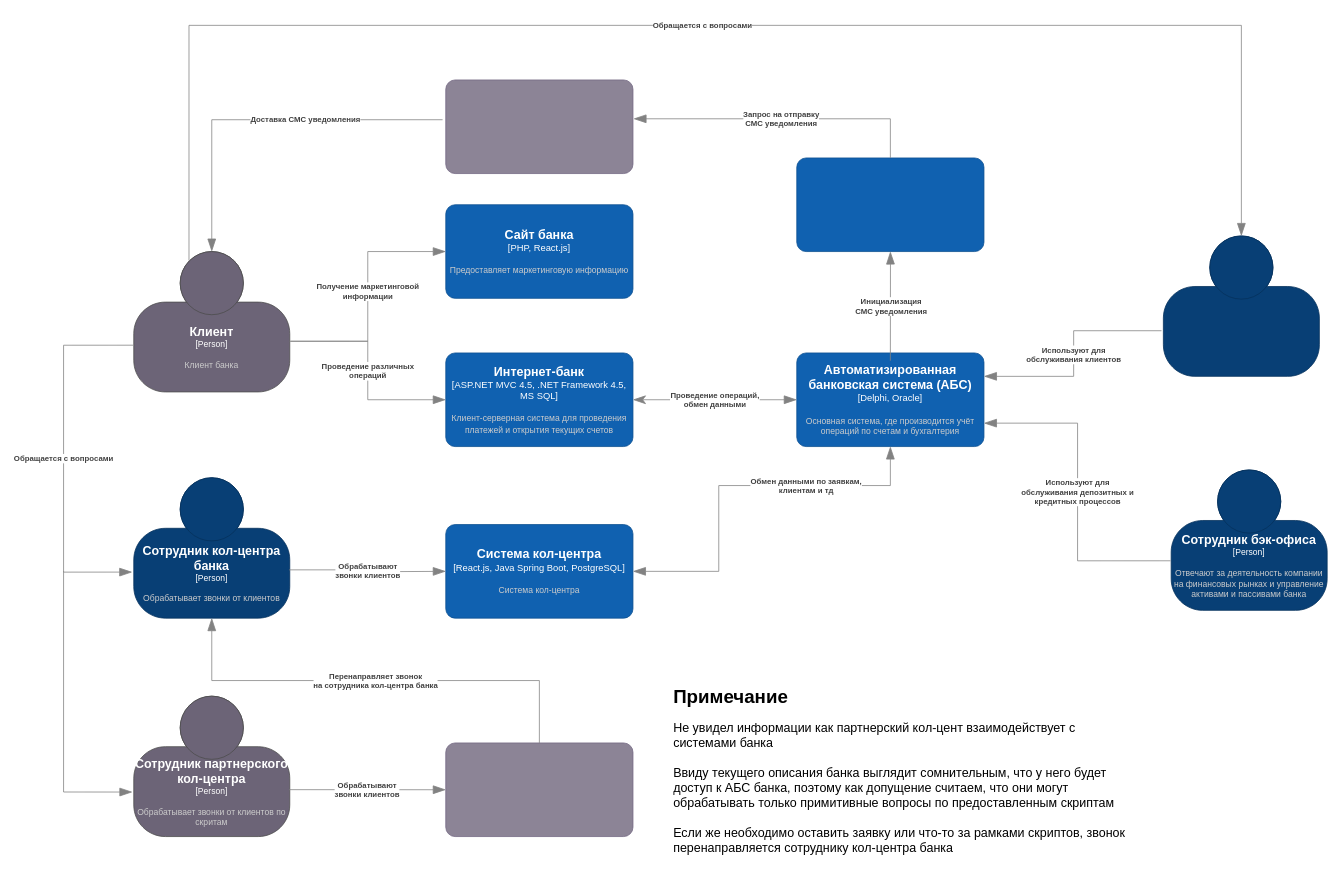
Some shapes in this 1341 by 892 pixel diagram are drawn without their labels. Here are the shapes that lost their labels. From the top down, the box of each, then its label:
(445, 79, 633, 174): Телеком-оператор [Software System] Доставка СМС
(796, 157, 984, 252): СМС-шлюз [Software System] Отправка СМС клиентам через телеком-оператора
(1163, 235, 1319, 376): Сотрудник фронт-офиса [Person] Сотрудники, которые работают в отделениях банка
(445, 742, 633, 837): Партнёрский кол-центр [Software System] Система кол-центра
